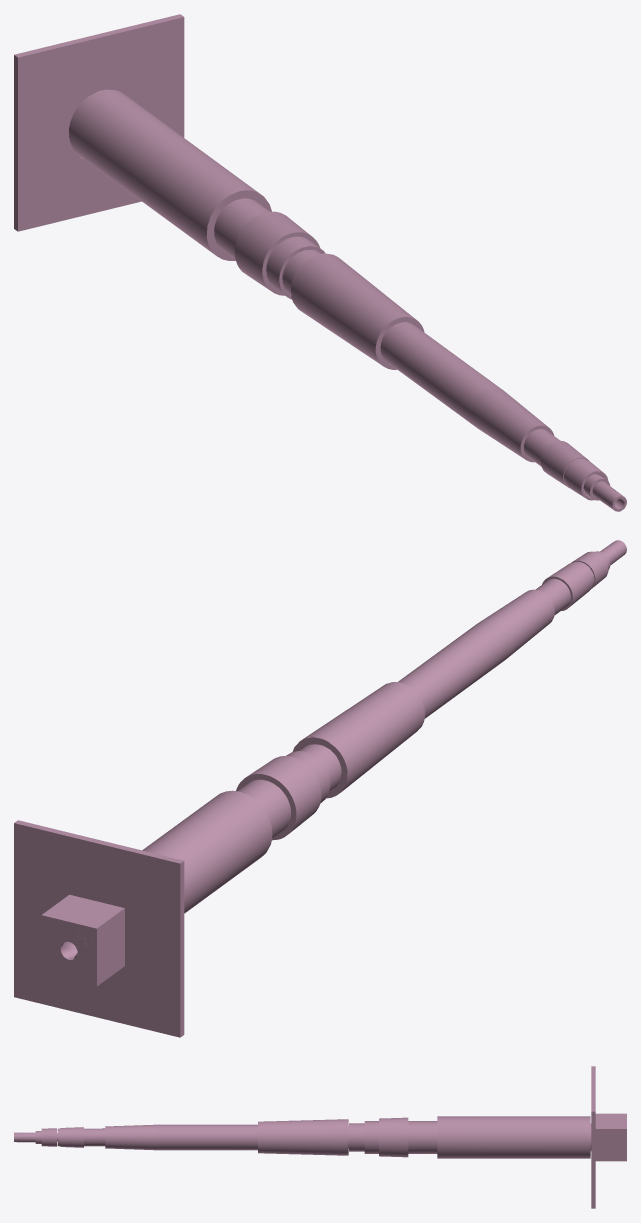
The model's file is SHIL.glb.
3 views of the same model, one above another, from view 1: azimuth 30°, elevation 25°; view 2: azimuth 150°, elevation 25°; view 3: azimuth 270°, elevation 25° (orthographic). The views are drawn at different scales.
Parts seen in each view (by area): view 1: Mesh_0, YSAA3SteelPlate11_1.001, YSAA3SteelPlate11_1.003, YSAA3SteelPlate21_1.003, YSAA3SteelPlate21_1.001; view 2: Mesh_0, YSAA3SteelPlate11_1.001, YSAA3SteelPlate11_1.003, YSAA3SteelPlate21_1.003, YSAA3SteelPlate21_1.001; view 3: Mesh_0, YSAA3SteelPlate11_1.001.
Part boxes in pixels (x1,y1,x2,y2): Mesh_0: (69, 88, 626, 511); YSAA3SteelPlate11_1.001: (14, 14, 184, 115); YSAA3SteelPlate11_1.003: (14, 133, 184, 231); YSAA3SteelPlate21_1.003: (14, 102, 73, 173); YSAA3SteelPlate21_1.001: (129, 75, 184, 134); Mesh_0: (41, 540, 626, 986); YSAA3SteelPlate11_1.001: (14, 820, 184, 921); YSAA3SteelPlate11_1.003: (14, 939, 184, 1037); YSAA3SteelPlate21_1.003: (125, 908, 184, 979); YSAA3SteelPlate21_1.001: (14, 881, 68, 948); Mesh_0: (14, 1113, 626, 1161); YSAA3SteelPlate11_1.001: (591, 1066, 595, 1143).
Bounding box in the file's own units: 240 × 240 × 1376.
